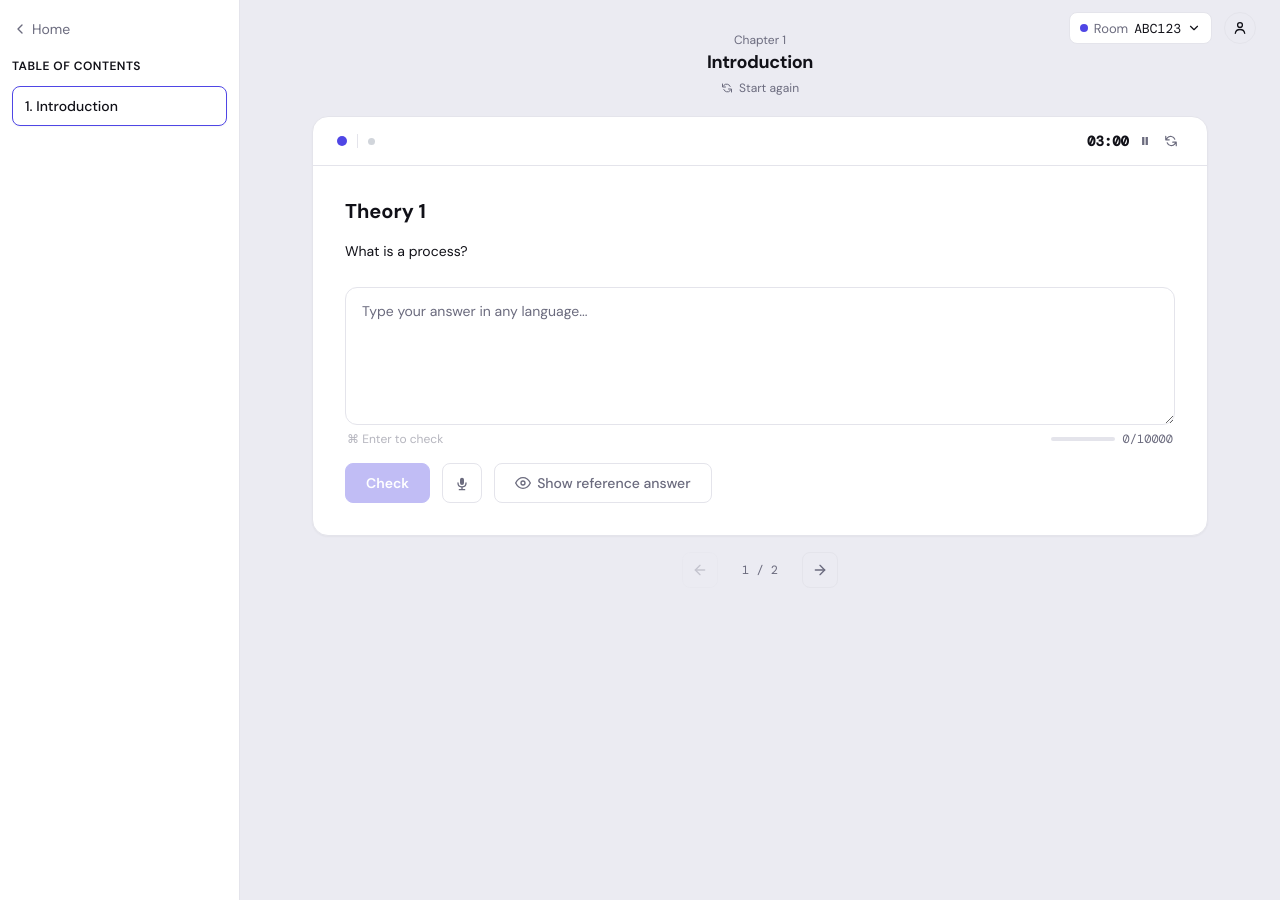
Test case: App routing › keeps roomId on question deep links and renders the practice shell
Expected: the heading "Theory 1" is shown, [345,198,426,224]
Expected: the text "What is a process?" is shown, [345,242,468,260]
Click the button named "Next question" at (820, 570), box [802,552,838,588]
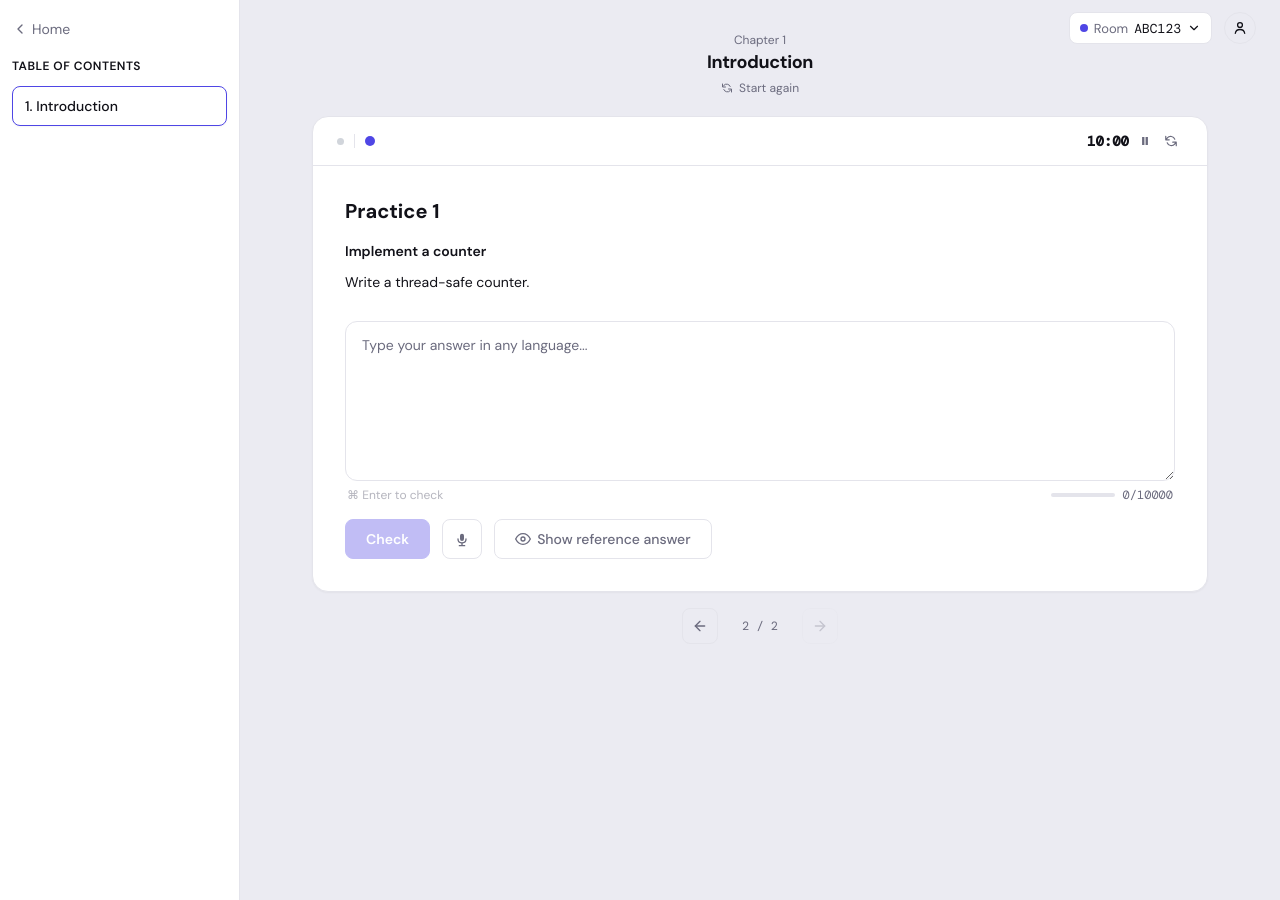
Now the heading "Practice 1" is shown, box [345,198,440,224]
